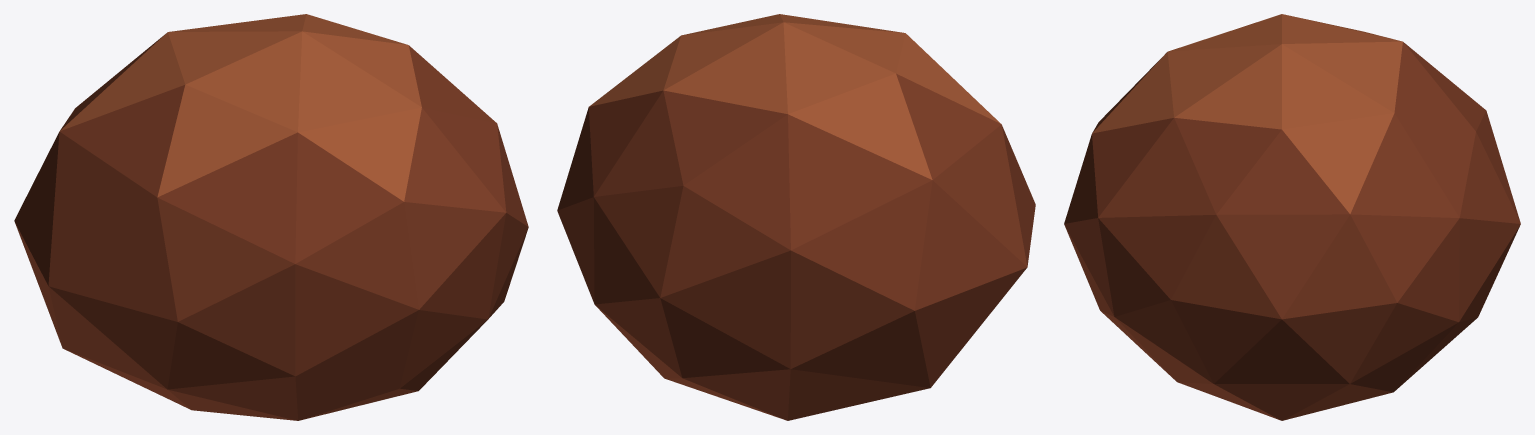
File: rock.gltf
3 views of the same model, side by side, from view 1: azimuth 30°, elevation 25°; view 2: azimuth 150°, elevation 25°; view 3: azimuth 270°, elevation 25° (orthographic). The views are drawn at different scales.
Parts seen in each view (by area): view 1: rock; view 2: rock; view 3: rock.
Boxes of the visible parts, bbox=[...] form: rock: bbox=[14, 14, 528, 420]; rock: bbox=[557, 14, 1035, 420]; rock: bbox=[1064, 14, 1520, 420].
Bounding box in the file's own units: 5.56 × 4.36 × 5.1.
